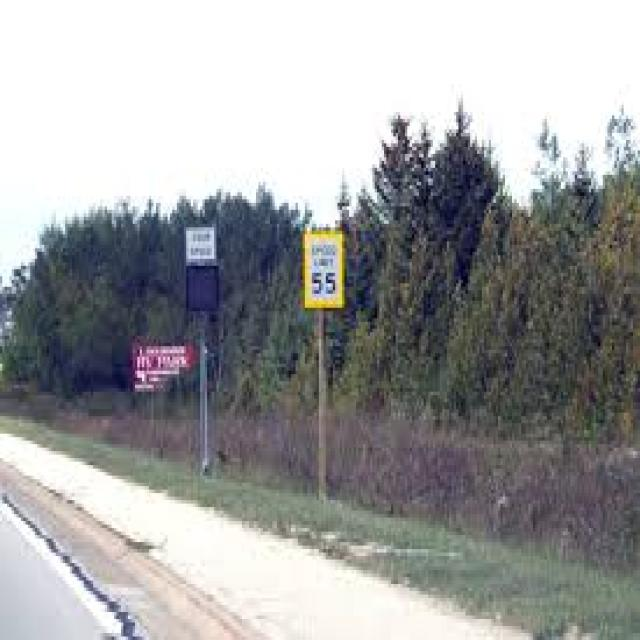speedLimit55: (308, 238, 339, 297)
